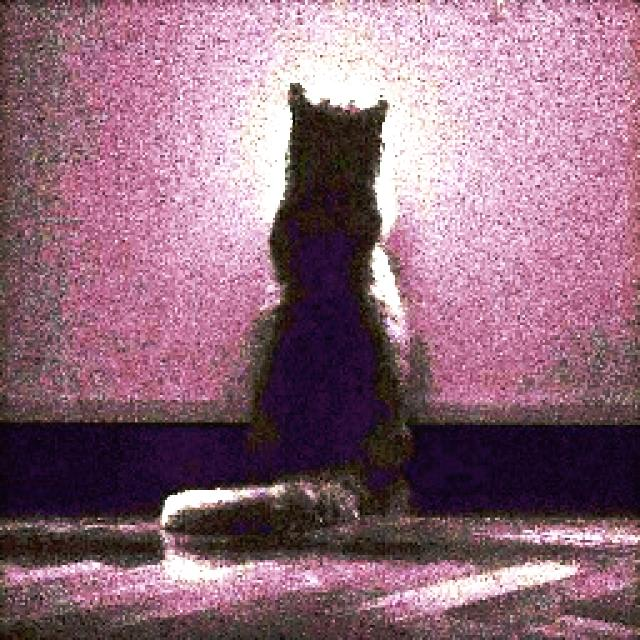cat: (143, 30, 457, 583)
